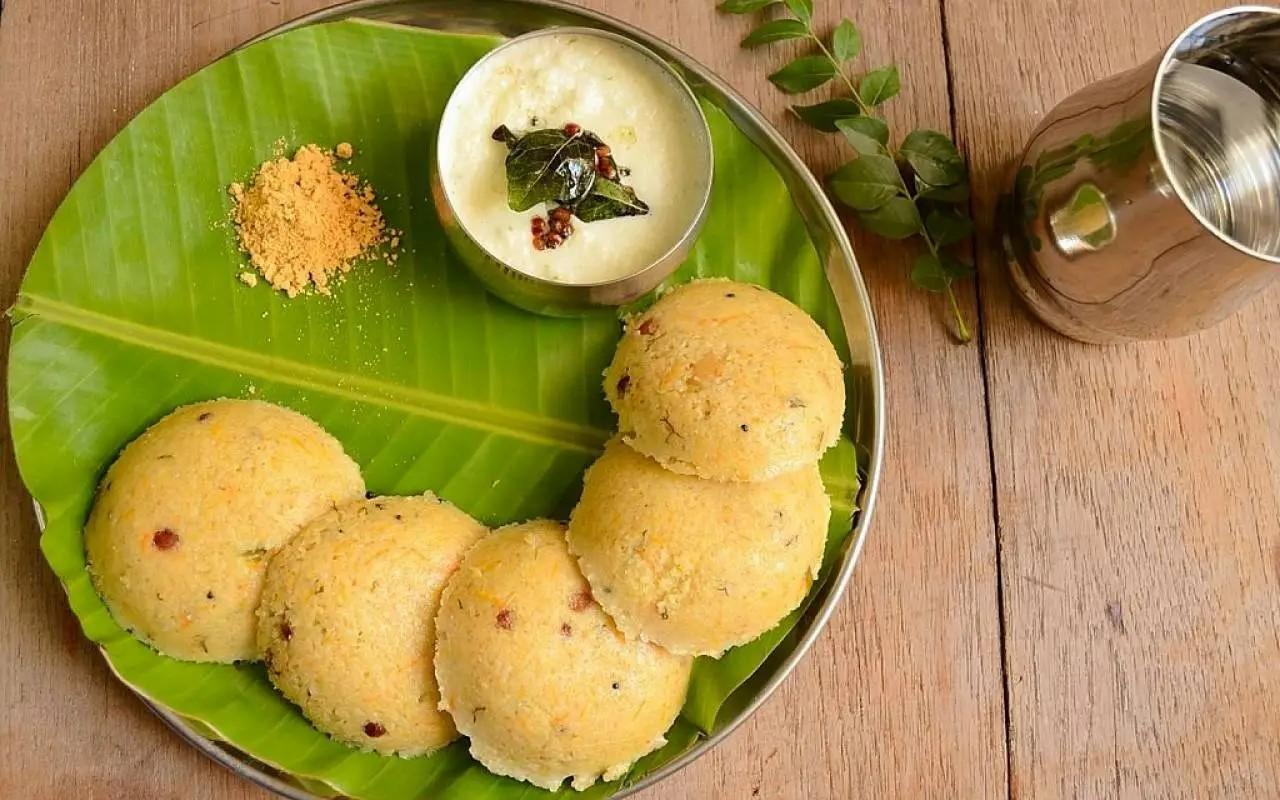CoconutChutney: (438, 32, 710, 284)
Idli: (84, 396, 367, 665), (436, 518, 693, 793), (258, 497, 493, 757), (564, 440, 834, 657), (603, 276, 847, 485)
